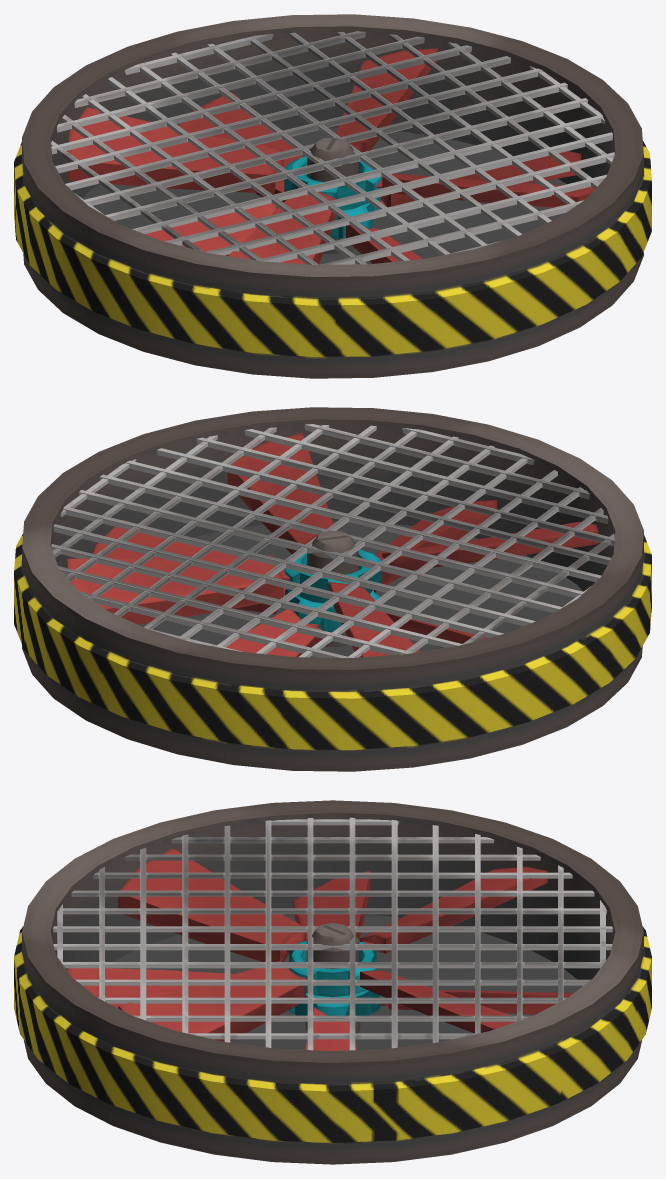
The model's file is FanMetal.fbx.
The picture shows the model from 3 angles, top to bottom: view 1: azimuth 30°, elevation 25°; view 2: azimuth 150°, elevation 25°; view 3: azimuth 270°, elevation 25°; orthographic projection.
Visible parts, largest first — view 1: FanStructure_low, FanGrid_low, FanBlades_low, FanBlades2_low; view 2: FanStructure_low, FanGrid_low, FanBlades_low, FanBlades2_low; view 3: FanStructure_low, FanGrid_low, FanBlades_low, FanBlades2_low.
Boxes of the visible parts, x1,y1,x2,y2 form: FanStructure_low: (14, 14, 651, 378); FanGrid_low: (51, 31, 614, 264); FanBlades_low: (67, 48, 594, 264); FanBlades2_low: (145, 91, 581, 263); FanStructure_low: (14, 407, 651, 771); FanGrid_low: (51, 424, 614, 657); FanBlades_low: (67, 433, 598, 657); FanBlades2_low: (93, 500, 496, 657); FanStructure_low: (14, 800, 651, 1164); FanGrid_low: (53, 817, 612, 1050); FanBlades_low: (118, 848, 547, 1041); FanBlades2_low: (67, 870, 573, 1050).
Bounding box in the file's own units: 616 × 110 × 616.
